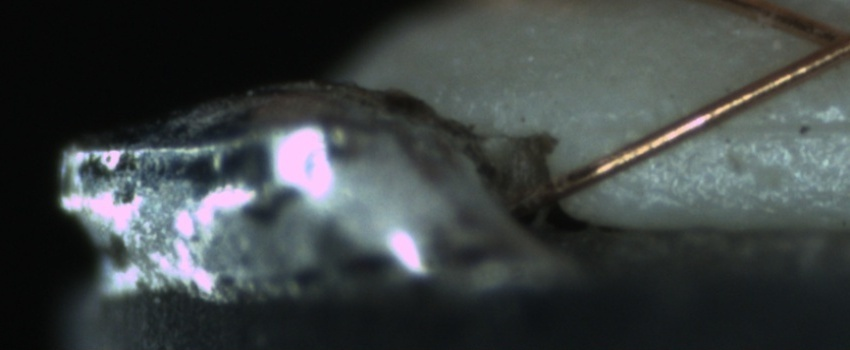CL: (793, 10, 850, 76)
DL: (688, 92, 848, 160)
